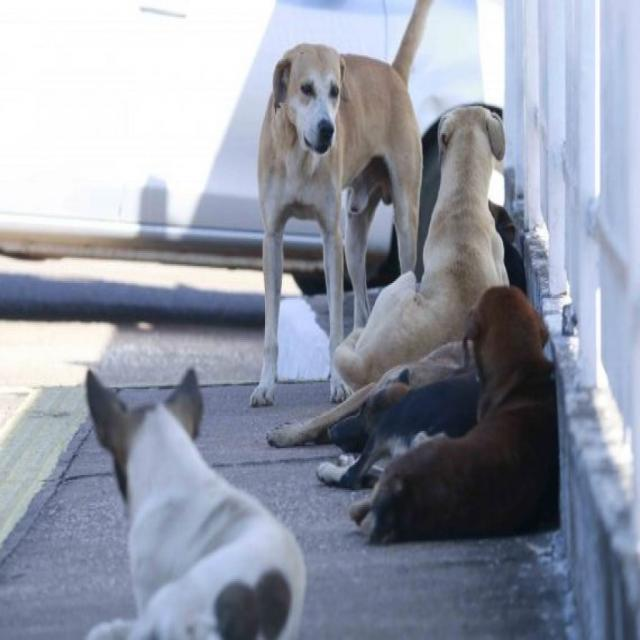laying down: (70, 364, 317, 640), (339, 282, 575, 550)
